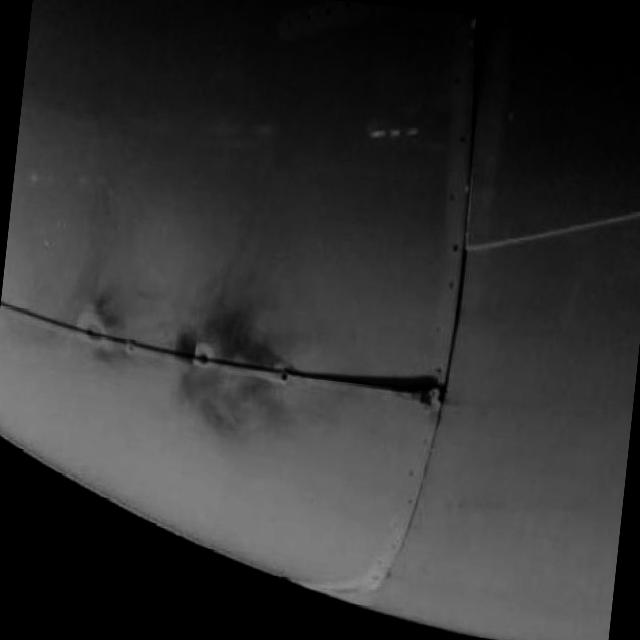crack: (288, 363, 446, 399)
